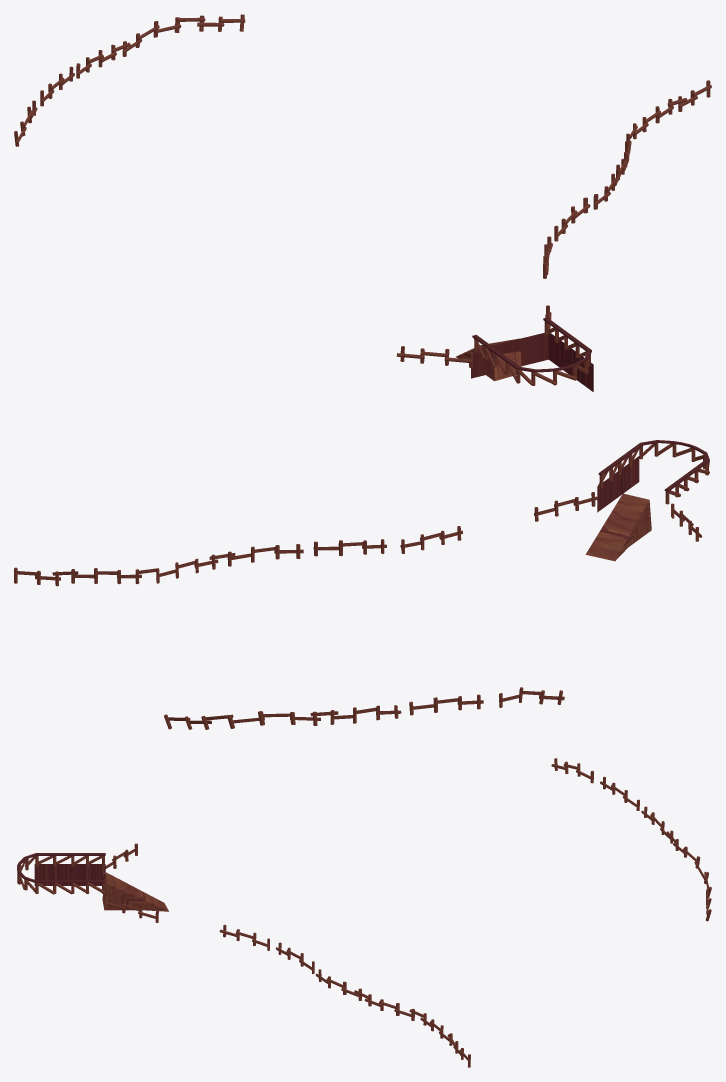
Rendered from fence.glb.
The picture shows the model from 3 angles, top to bottom: view 1: azimuth 30°, elevation 25°; view 2: azimuth 150°, elevation 25°; view 3: azimuth 270°, elevation 25°; orthographic projection. The views are drawn at different scales.
Parts seen in each view (by area): view 1: Fence; view 2: Fence; view 3: Fence.
Boxes of the visible parts, <box> form: Fence: <box>14,14,711,391</box>; Fence: <box>14,440,709,729</box>; Fence: <box>17,758,711,1067</box>.
Bounding box in the file's own units: 326 × 47.03 × 389.
